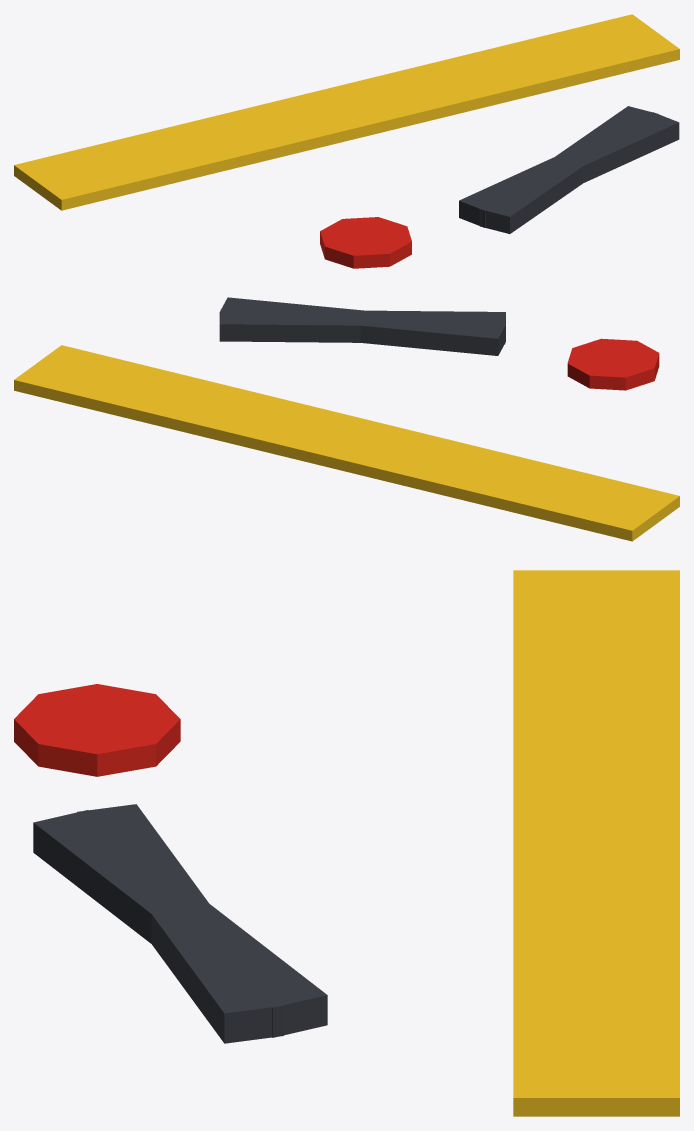
File: scissors_ruler_set.fbx
3 renders of one model, top to bottom at view 1: azimuth 30°, elevation 25°; view 2: azimuth 150°, elevation 25°; view 3: azimuth 270°, elevation 25°, orthographic. The views are drawn at different scales.
Visible parts, largest first — view 1: scissors_ruler_set; view 2: scissors_ruler_set; view 3: scissors_ruler_set.
Part boxes in pixels (x1,y1,x2,y2): scissors_ruler_set: [14, 14, 679, 268]; scissors_ruler_set: [14, 297, 679, 541]; scissors_ruler_set: [14, 570, 679, 1116].
Bounding box in the file's own units: 0.3 × 0.0085 × 0.16.
